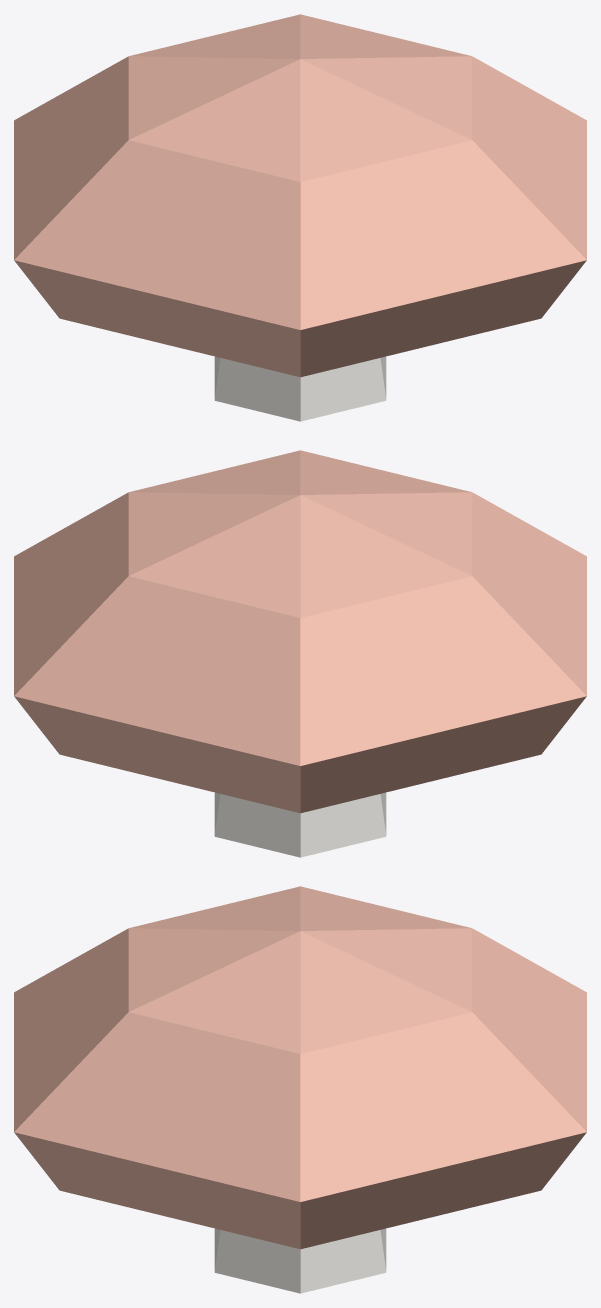
Rendered from Hilly_Prop_Mushroom_2.glb.
3 views of the same model, one above another, from view 1: azimuth 30°, elevation 25°; view 2: azimuth 150°, elevation 25°; view 3: azimuth 270°, elevation 25° (orthographic).
Visible parts, largest first — view 1: Hilly_Prop_Mushroom_2; view 2: Hilly_Prop_Mushroom_2; view 3: Hilly_Prop_Mushroom_2.
Boxes of the visible parts, x1,y1,x2,y2 form: Hilly_Prop_Mushroom_2: (14,14,586,421); Hilly_Prop_Mushroom_2: (14,450,586,857); Hilly_Prop_Mushroom_2: (14,886,586,1293).
Bounding box in the file's own units: 0.5 × 0.2674 × 0.433.
